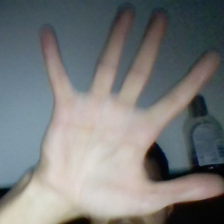left: (32, 2, 224, 206)
